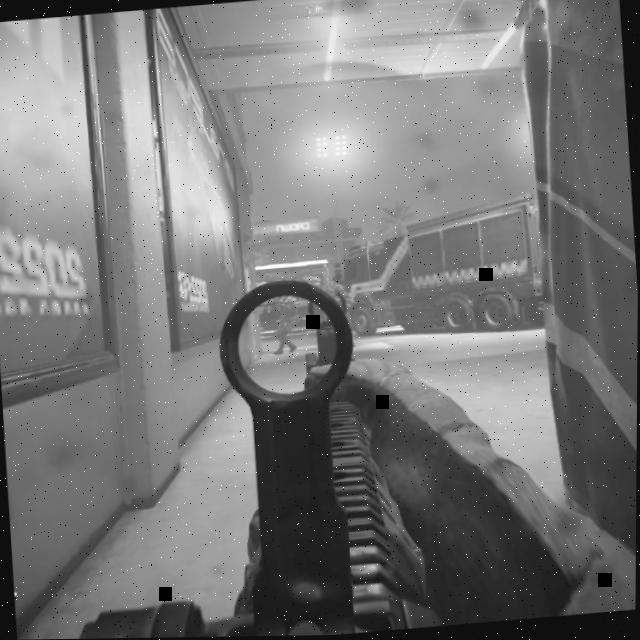MW2_body: (266, 294, 302, 357), (328, 271, 353, 315)
